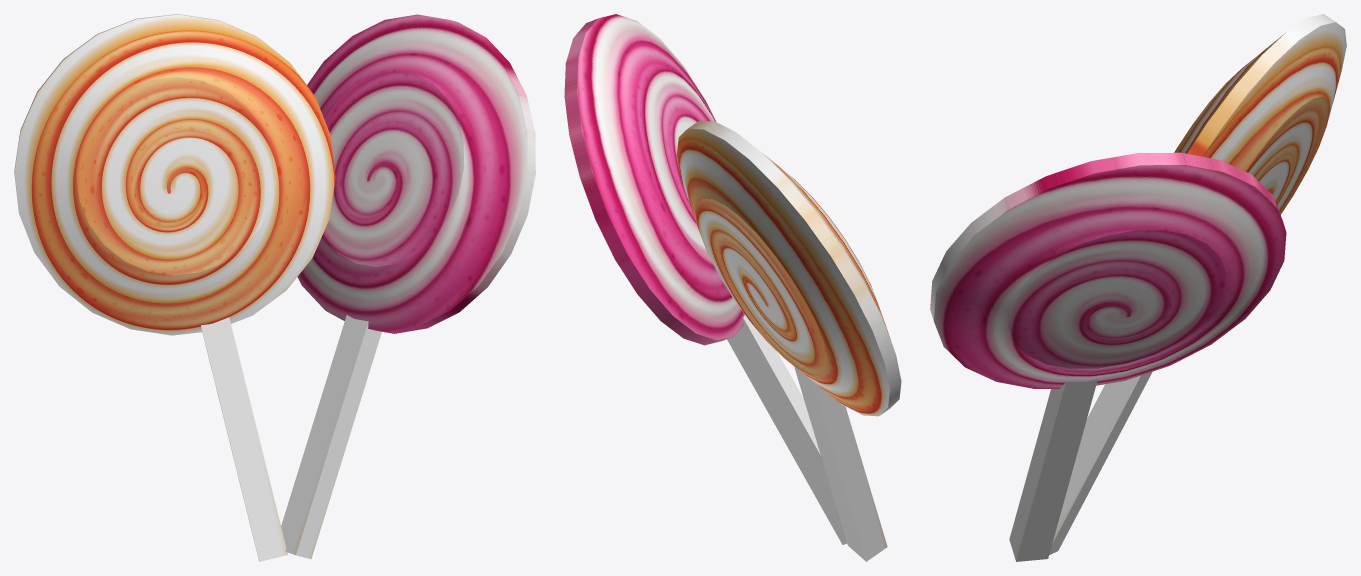
The model's file is Candy.fbx.
The picture shows the model from 3 angles, left to right: view 1: azimuth 30°, elevation 25°; view 2: azimuth 150°, elevation 25°; view 3: azimuth 270°, elevation 25°; orthographic projection. The views are drawn at different scales.
Parts seen in each view (by area): view 1: Candy; view 2: Candy; view 3: Candy.
Boxes of the visible parts, x1,y1,x2,y2 form: Candy: [14, 14, 535, 561]; Candy: [564, 14, 901, 561]; Candy: [930, 14, 1346, 561].
Bounding box in the file's own units: 14.28 × 16.73 × 11.92.
2 materials, 2 textured.
